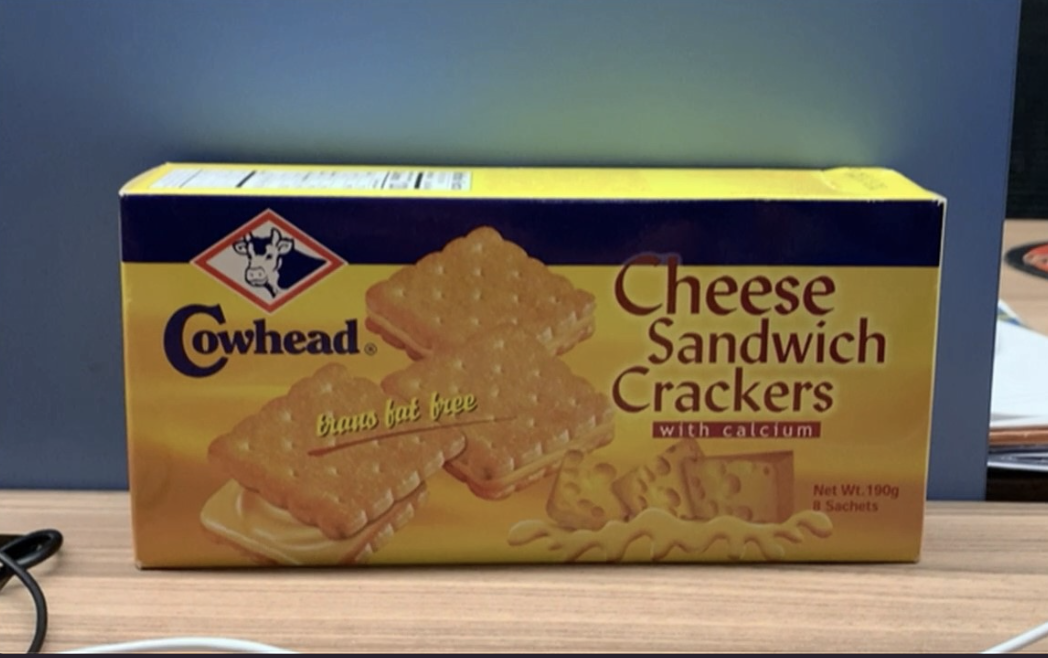crackers_150g: (154, 214, 904, 546)
